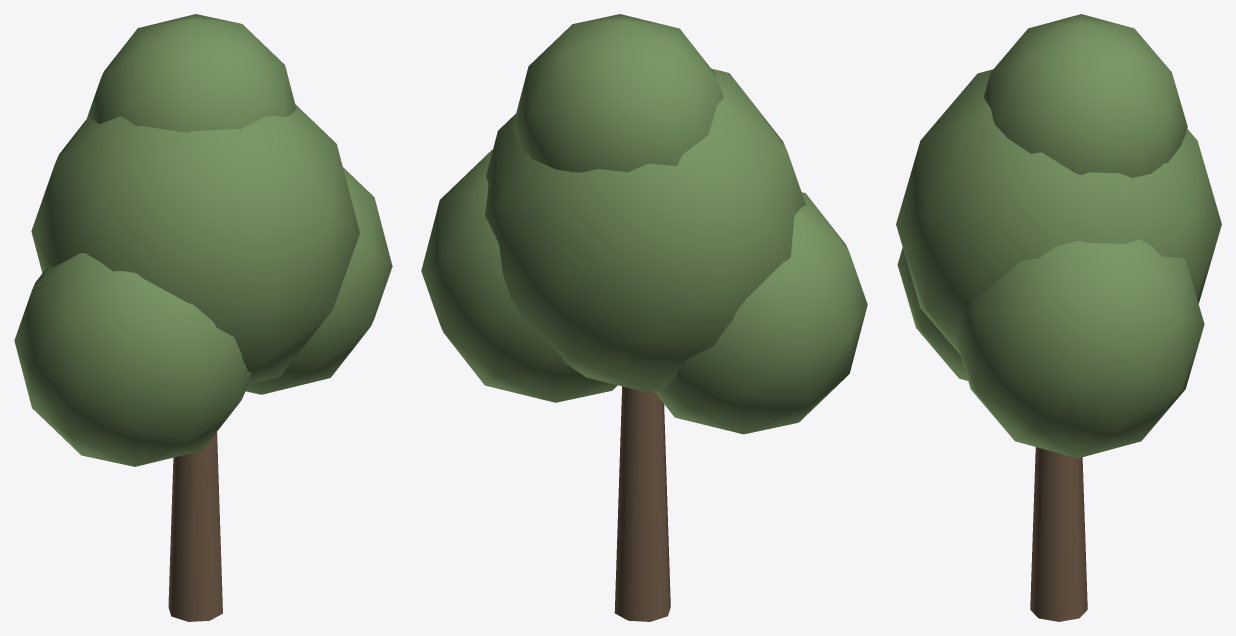
Rendered from tree-0.glb.
The picture shows the model from 3 angles, left to right: view 1: azimuth 30°, elevation 25°; view 2: azimuth 150°, elevation 25°; view 3: azimuth 270°, elevation 25°; orthographic projection. The views are drawn at different scales.
Parts seen in each view (by area): view 1: tree-0-0; view 2: tree-0-0; view 3: tree-0-0.
Boxes of the visible parts, <box> form: tree-0-0: <box>14,14,392,621</box>; tree-0-0: <box>421,14,867,621</box>; tree-0-0: <box>896,14,1221,621</box>.
Bounding box in the file's own units: 1.38 × 2.04 × 1.02.
